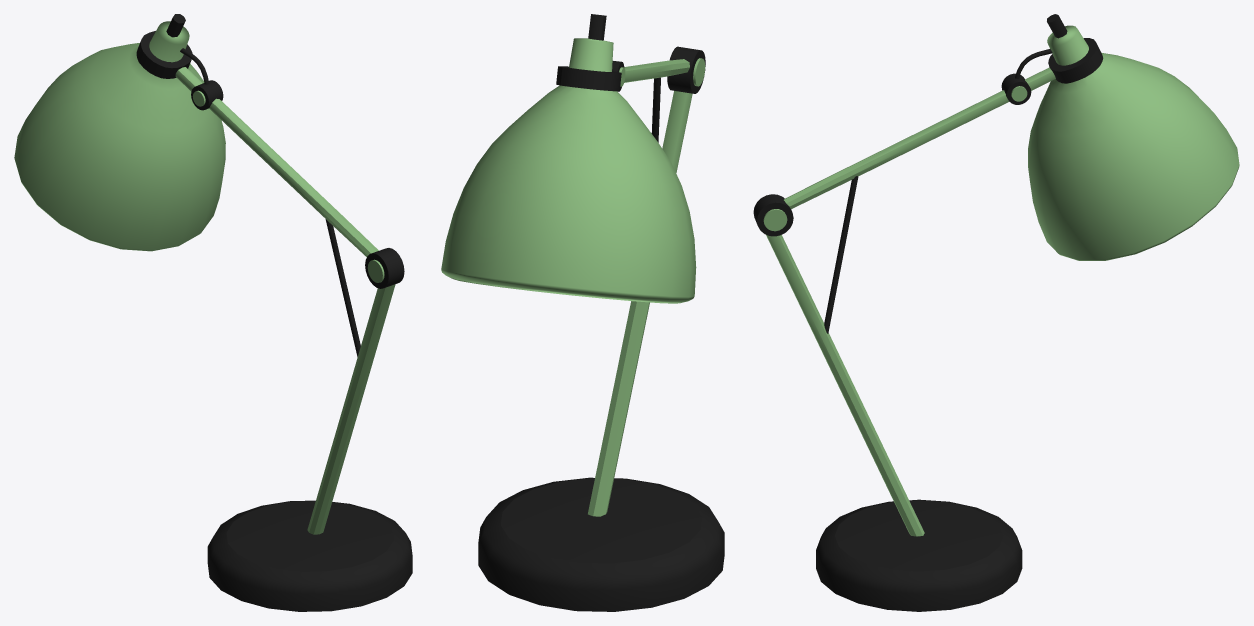
File: GreenLamp.fbx
3 views of the same model, side by side, from view 1: azimuth 30°, elevation 25°; view 2: azimuth 150°, elevation 25°; view 3: azimuth 270°, elevation 25° (orthographic). The views are drawn at different scales.
Visible parts, largest first — view 1: polySurface6; view 2: polySurface6; view 3: polySurface6.
Boxes of the visible parts, x1=… form: polySurface6: x1=14, y1=14, x2=412, y2=611; polySurface6: x1=441, y1=14, x2=724, y2=611; polySurface6: x1=753, y1=14, x2=1239, y2=611.
Bounding box in the file's own units: 2.87 × 5.42 × 4.58.
